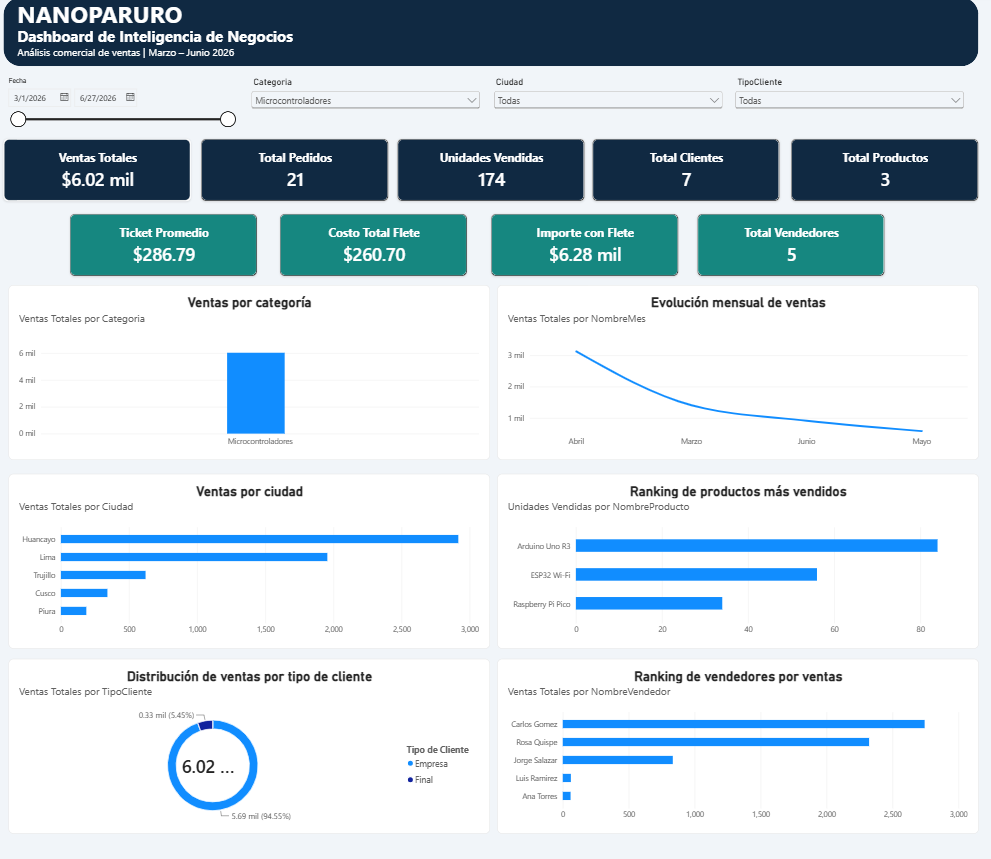

Layout of this report page (visuals, bound fields, positions):
{"tool":"powerbi","page":{"name":"Análisis Comercial","canvas":[1600,1400],"ordinal":0},"visuals":[{"type":"shape","box":[20,20,1560,110],"z":0},{"type":"textbox","title":"NANOPARURO","box":[41.2,20.6,1560,150],"z":1000},{"type":"textbox","title":"Dashboard de Inteligencia de Negocios","box":[41.2,65.2,1559.2,128.6],"z":2000},{"type":"textbox","title":"Análisis comercial de ventas | Marzo – Junio 2026","box":[41.2,96.1,1559,150],"z":3000},{"type":"slicer","fields":{"Values":["DIM_FECHA.Fecha"]},"box":[20,145,375,90],"z":4000},{"type":"slicer","fields":{"Values":["DIM_PRODUCTO.Categoria"]},"box":[411.7,145.8,375,90],"z":5000},{"type":"slicer","fields":{"Values":["DIM_GEOGRAFIA.Ciudad"]},"box":[799.3,145.8,375,90],"z":6000},{"type":"slicer","fields":{"Values":["DIM_CLIENTE.TipoCliente"]},"box":[1187,145.8,375,90],"z":7000},{"type":"cardVisual","fields":{"Data":["FACT_VENTAS.Ventas Totales"]},"box":[20.6,245.3,300,100],"z":8000},{"type":"cardVisual","fields":{"Data":["FACT_VENTAS.Total Pedidos"]},"box":[336.2,245.3,300,100],"z":9000},{"type":"cardVisual","fields":{"Data":["FACT_VENTAS.Unidades Vendidas"]},"box":[650.1,245.3,300,100],"z":10000},{"type":"cardVisual","fields":{"Data":["FACT_VENTAS.Total Clientes"]},"box":[962.3,245.3,300,100],"z":11000},{"type":"cardVisual","fields":{"Data":["FACT_VENTAS.Total Productos"]},"box":[1279.6,245.3,300,100],"z":12000},{"type":"cardVisual","fields":{"Data":["FACT_VENTAS.Ticket Promedio"]},"box":[125.2,365.4,300,100],"z":13000},{"type":"cardVisual","fields":{"Data":["FACT_VENTAS.Costo Total Flete"]},"box":[461.4,365.4,300,100],"z":14000},{"type":"cardVisual","fields":{"Data":["FACT_VENTAS.Importe con Flete"]},"box":[799.3,365.4,300,100],"z":15000},{"type":"cardVisual","fields":{"Data":["FACT_VENTAS.Total Vendedores"]},"box":[1130.4,365.4,300,100],"z":16000},{"type":"clusteredColumnChart","title":"Ventas por categoría","fields":{"Category":["DIM_PRODUCTO.Categoria"],"Y":["FACT_VENTAS.Ventas Totales"]},"box":[28.3,480.9,770,280],"z":17000},{"type":"lineChart","title":"Evolución mensual de ventas","fields":{"Category":["DIM_FECHA.NombreMes"],"Y":["FACT_VENTAS.Ventas Totales"]},"box":[810.3,480.9,770,280],"z":18000},{"type":"clusteredBarChart","title":"Ventas por ciudad","fields":{"Category":["DIM_GEOGRAFIA.Ciudad"],"Y":["FACT_VENTAS.Ventas Totales"]},"box":[28,782,770,280],"z":19000},{"type":"clusteredBarChart","title":"\tRanking de productos más vendidos","fields":{"Category":["DIM_PRODUCTO.NombreProducto"],"Y":["FACT_VENTAS.Unidades Vendidas"]},"box":[810,782,770,280],"z":20000},{"type":"donutChart","title":"\tDistribución de ventas por tipo de cliente","fields":{"Category":["DIM_CLIENTE.TipoCliente"],"Y":["FACT_VENTAS.Ventas Totales"]},"box":[28,1078,770,280],"z":21000},{"type":"clusteredBarChart","title":"Ranking de vendedores por ventas","fields":{"Category":["DIM_VENDEDOR.NombreVendedor"],"Y":["FACT_VENTAS.Ventas Totales"]},"box":[810,1078,770,280],"z":21001}]}

Visuals, with their boxes in screenshot pixels (x1, y1, x2, y2), scaled from the page's 1600x1400 canvas onto the 991x859 screenshot:
shape: region(12, 12, 979, 80)
"NANOPARURO" textbox: region(26, 13, 990, 105)
"Dashboard de Inteligencia de Negocios" textbox: region(26, 40, 990, 119)
"Análisis comercial de ventas | Marzo – Junio 2026" textbox: region(26, 59, 990, 151)
slicer - DIM_FECHA.Fecha: region(12, 89, 245, 144)
slicer - DIM_PRODUCTO.Categoria: region(255, 89, 487, 145)
slicer - DIM_GEOGRAFIA.Ciudad: region(495, 89, 727, 145)
slicer - DIM_CLIENTE.TipoCliente: region(735, 89, 967, 145)
cardVisual - FACT_VENTAS.Ventas Totales: region(13, 151, 199, 212)
cardVisual - FACT_VENTAS.Total Pedidos: region(208, 151, 394, 212)
cardVisual - FACT_VENTAS.Unidades Vendidas: region(403, 151, 588, 212)
cardVisual - FACT_VENTAS.Total Clientes: region(596, 151, 782, 212)
cardVisual - FACT_VENTAS.Total Productos: region(793, 151, 978, 212)
cardVisual - FACT_VENTAS.Ticket Promedio: region(78, 224, 263, 286)
cardVisual - FACT_VENTAS.Costo Total Flete: region(286, 224, 472, 286)
cardVisual - FACT_VENTAS.Importe con Flete: region(495, 224, 681, 286)
cardVisual - FACT_VENTAS.Total Vendedores: region(700, 224, 886, 286)
"Ventas por categoría" clusteredColumnChart: region(18, 295, 494, 467)
"Evolución mensual de ventas" lineChart: region(502, 295, 979, 467)
"Ventas por ciudad" clusteredBarChart: region(17, 480, 494, 652)
"	Ranking de productos más vendidos" clusteredBarChart: region(502, 480, 979, 652)
"	Distribución de ventas por tipo de cliente" donutChart: region(17, 661, 494, 833)
"Ranking de vendedores por ventas" clusteredBarChart: region(502, 661, 979, 833)
